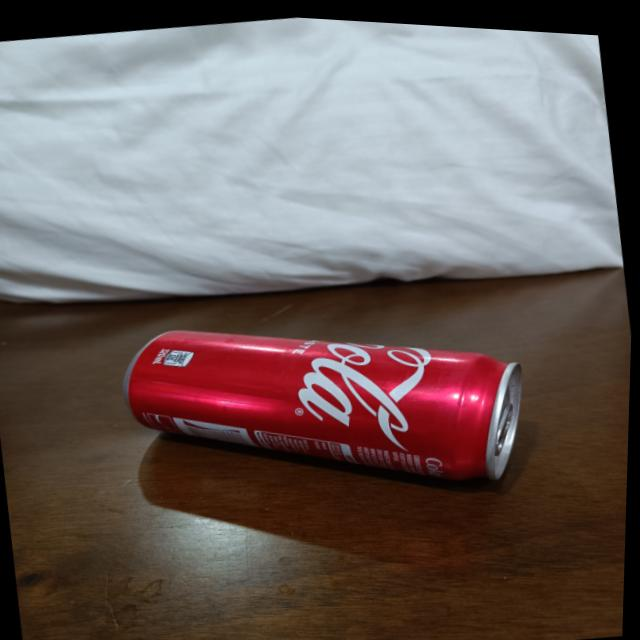coke: (121, 277, 528, 526)
